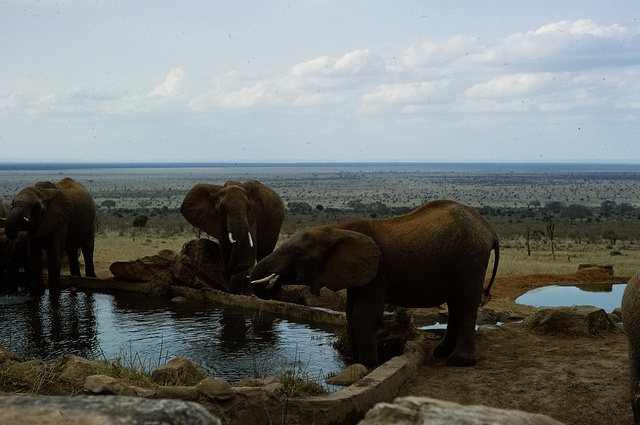elephant: (372, 281, 628, 425), (49, 236, 145, 356), (230, 224, 334, 317)
